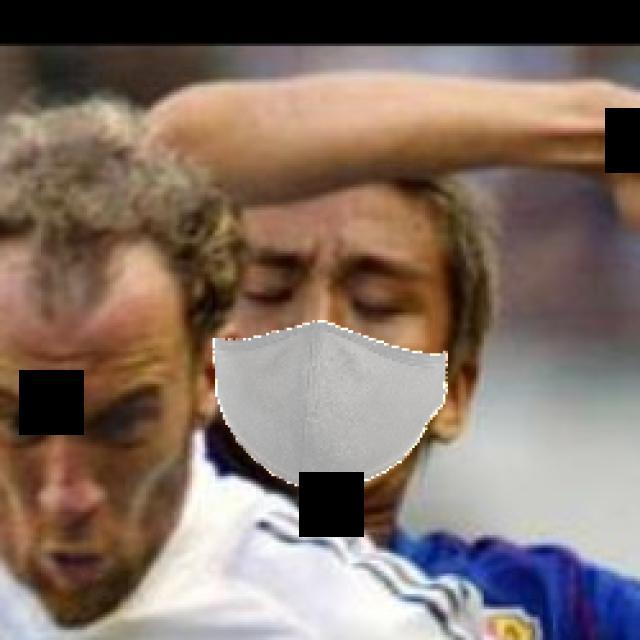cloth: (204, 202, 447, 488)
